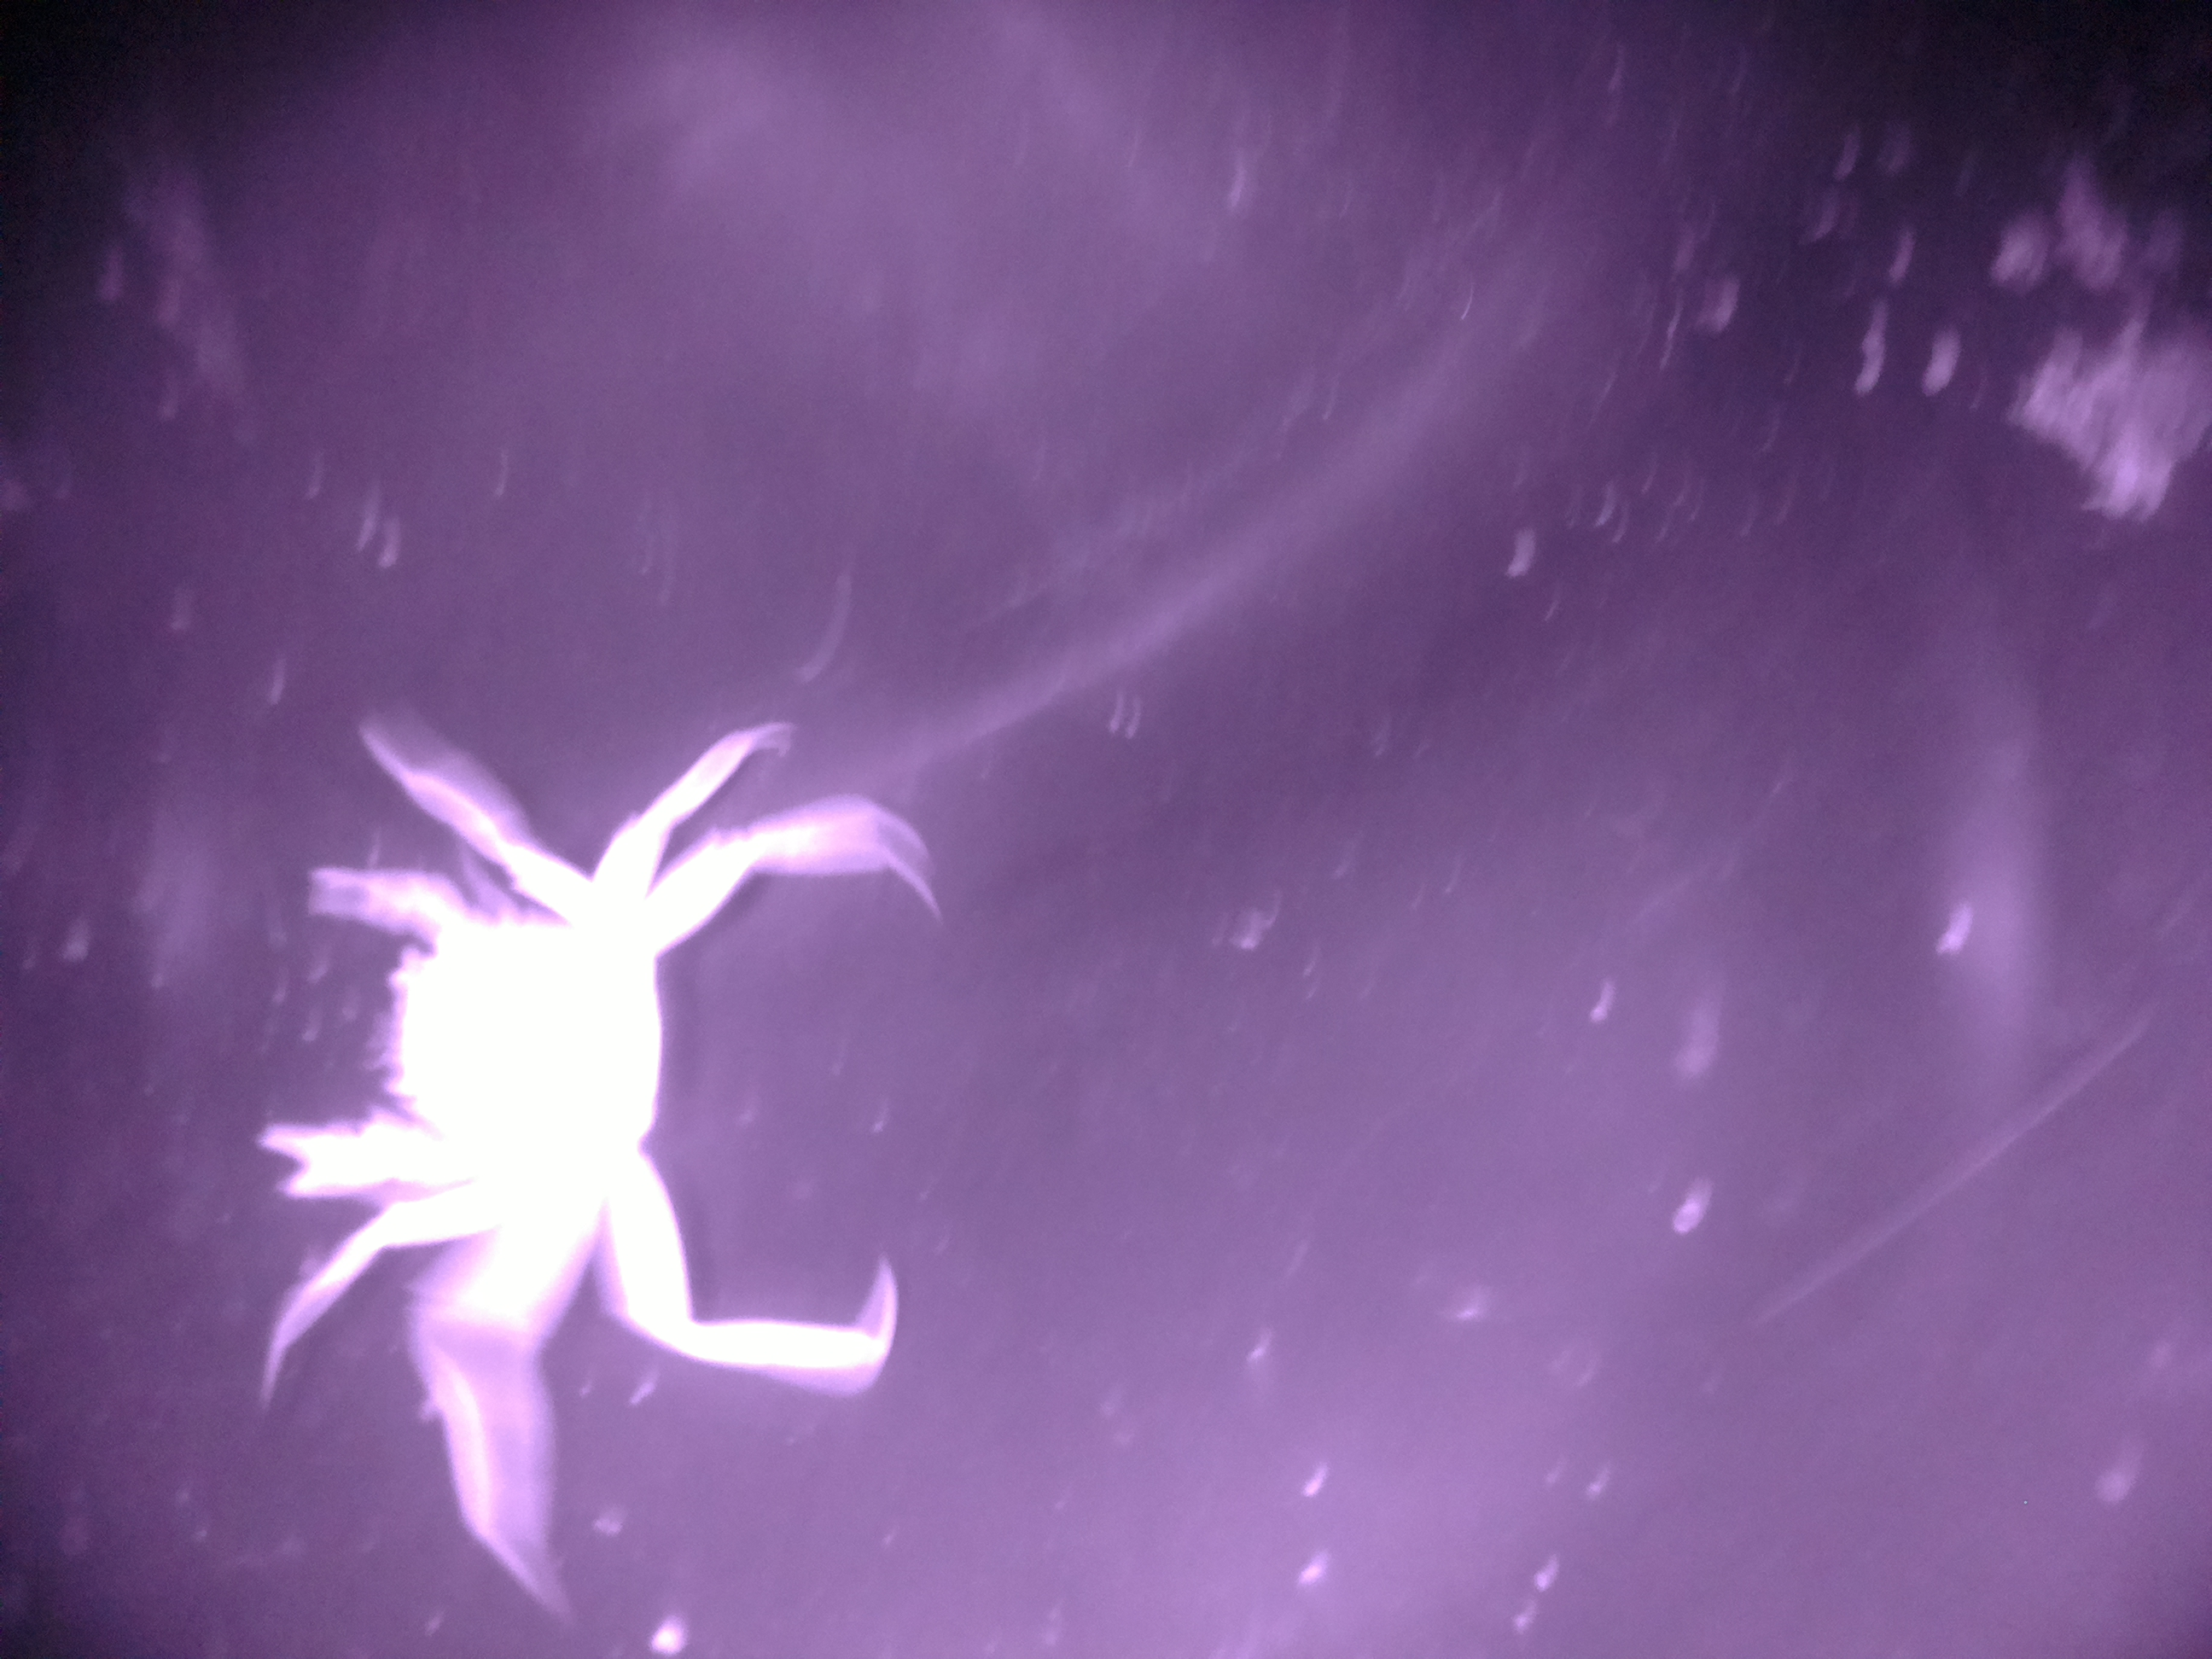Crab: (165, 739, 787, 1385)
